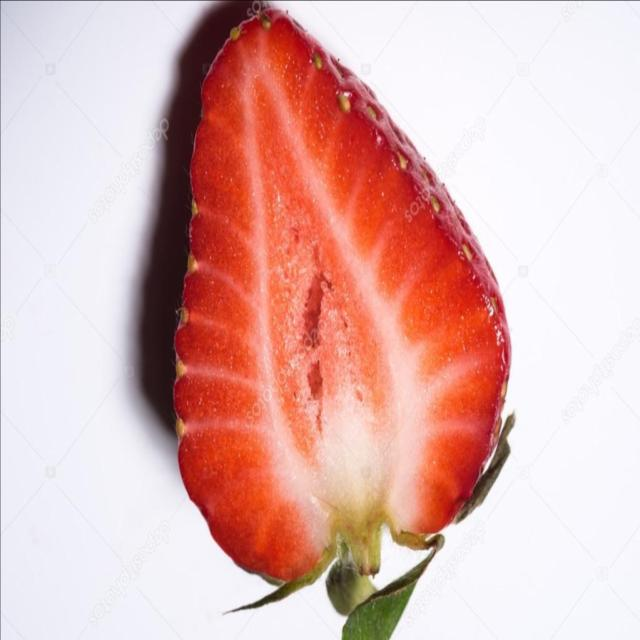strawberry: (117, 0, 528, 611)
